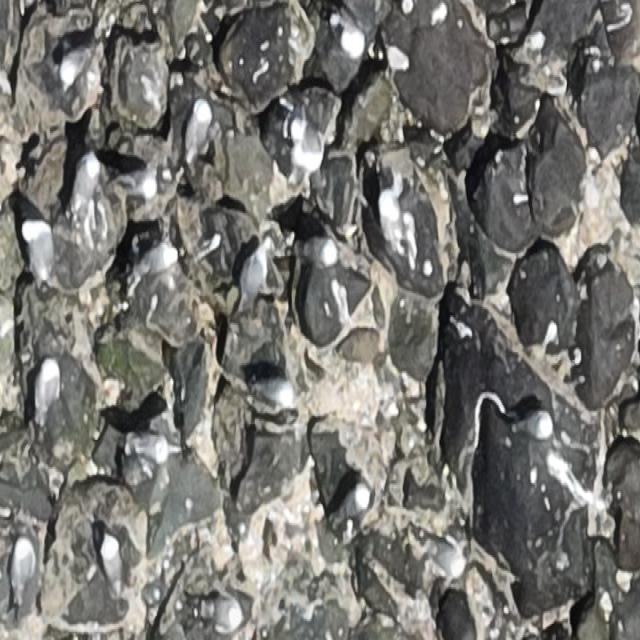umineko: (286, 106, 326, 171), (235, 240, 266, 313), (9, 534, 35, 616), (379, 189, 409, 258), (184, 97, 211, 166), (22, 219, 52, 280), (330, 7, 367, 55), (332, 485, 369, 531), (135, 244, 176, 284), (423, 537, 465, 576), (199, 593, 241, 632), (60, 41, 96, 86), (125, 428, 168, 464), (73, 152, 99, 210), (34, 358, 56, 425), (101, 532, 123, 597), (296, 236, 336, 265), (258, 378, 295, 409), (115, 171, 155, 198), (515, 412, 553, 437)
